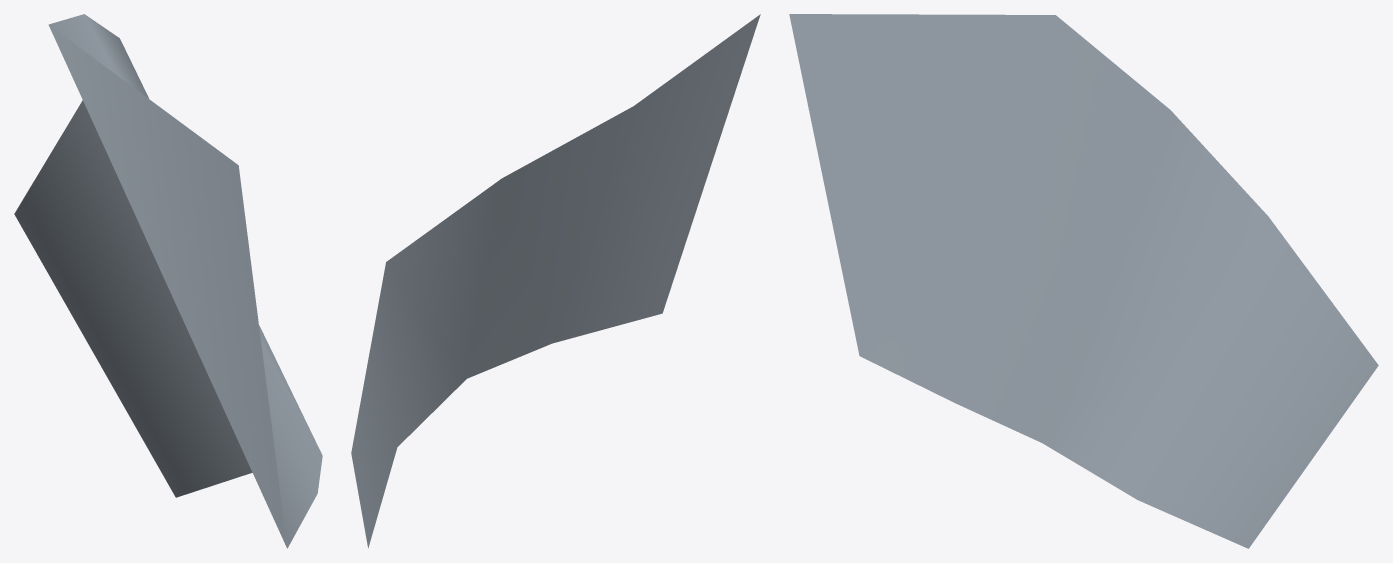
The model's file is anterior-talocalcaneal-ligament-l.glb.
The picture shows the model from 3 angles, left to right: view 1: azimuth 30°, elevation 25°; view 2: azimuth 150°, elevation 25°; view 3: azimuth 270°, elevation 25°; orthographic projection. The views are drawn at different scales.
Parts seen in each view (by area): view 1: Anterior talocalcaneal ligament.l; view 2: Anterior talocalcaneal ligament.l; view 3: Anterior talocalcaneal ligament.l.
Boxes of the visible parts, x1,y1,x2,y2 form: Anterior talocalcaneal ligament.l: (14, 14, 322, 548); Anterior talocalcaneal ligament.l: (351, 14, 760, 548); Anterior talocalcaneal ligament.l: (789, 14, 1378, 548).
Bounding box in the file's own units: 0.00759 × 0.0153 × 0.0184.
